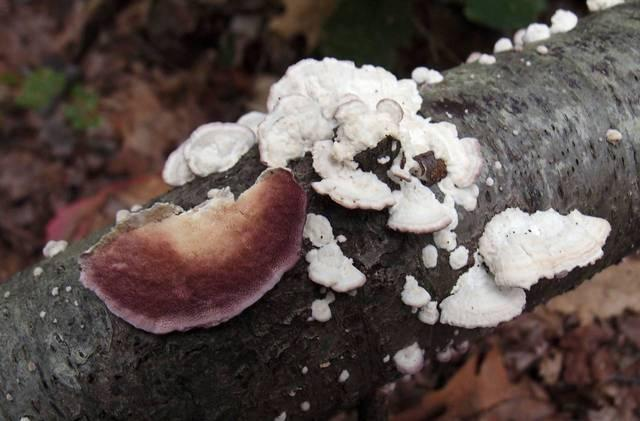Non-edible Mushroom: (154, 23, 611, 315), (77, 164, 308, 335)
